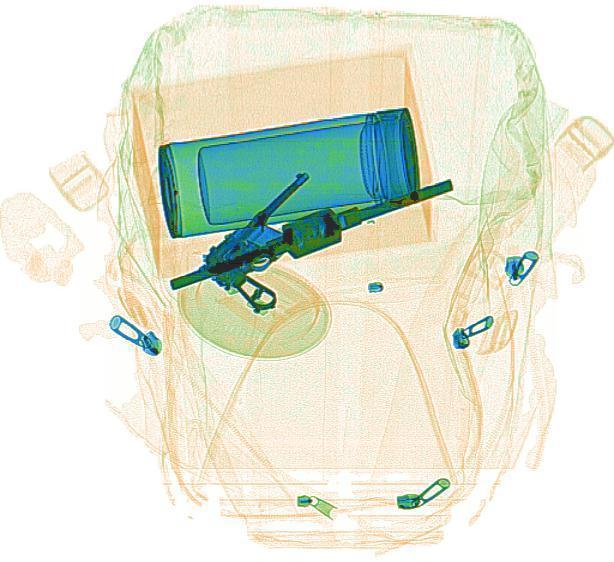Gun: (186, 162, 366, 319)
